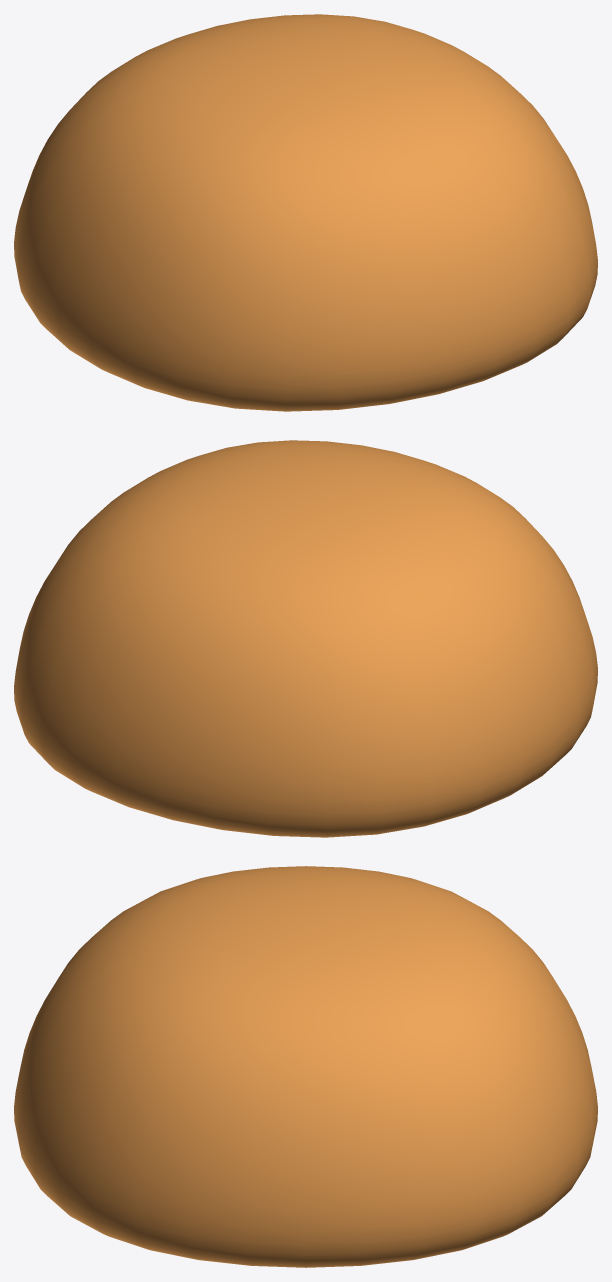
Rendered from PanArriba.glb.
The picture shows the model from 3 angles, top to bottom: view 1: azimuth 30°, elevation 25°; view 2: azimuth 150°, elevation 25°; view 3: azimuth 270°, elevation 25°; orthographic projection. The views are drawn at different scales.
Visible parts, largest first — view 1: Pan arriba; view 2: Pan arriba; view 3: Pan arriba.
Part boxes in pixels (x1,y1,x2,y2): Pan arriba: (14,14,597,411); Pan arriba: (14,440,597,837); Pan arriba: (14,866,597,1267).
Size of the model in its own units: 1.86 by 0.8651 by 1.86.
